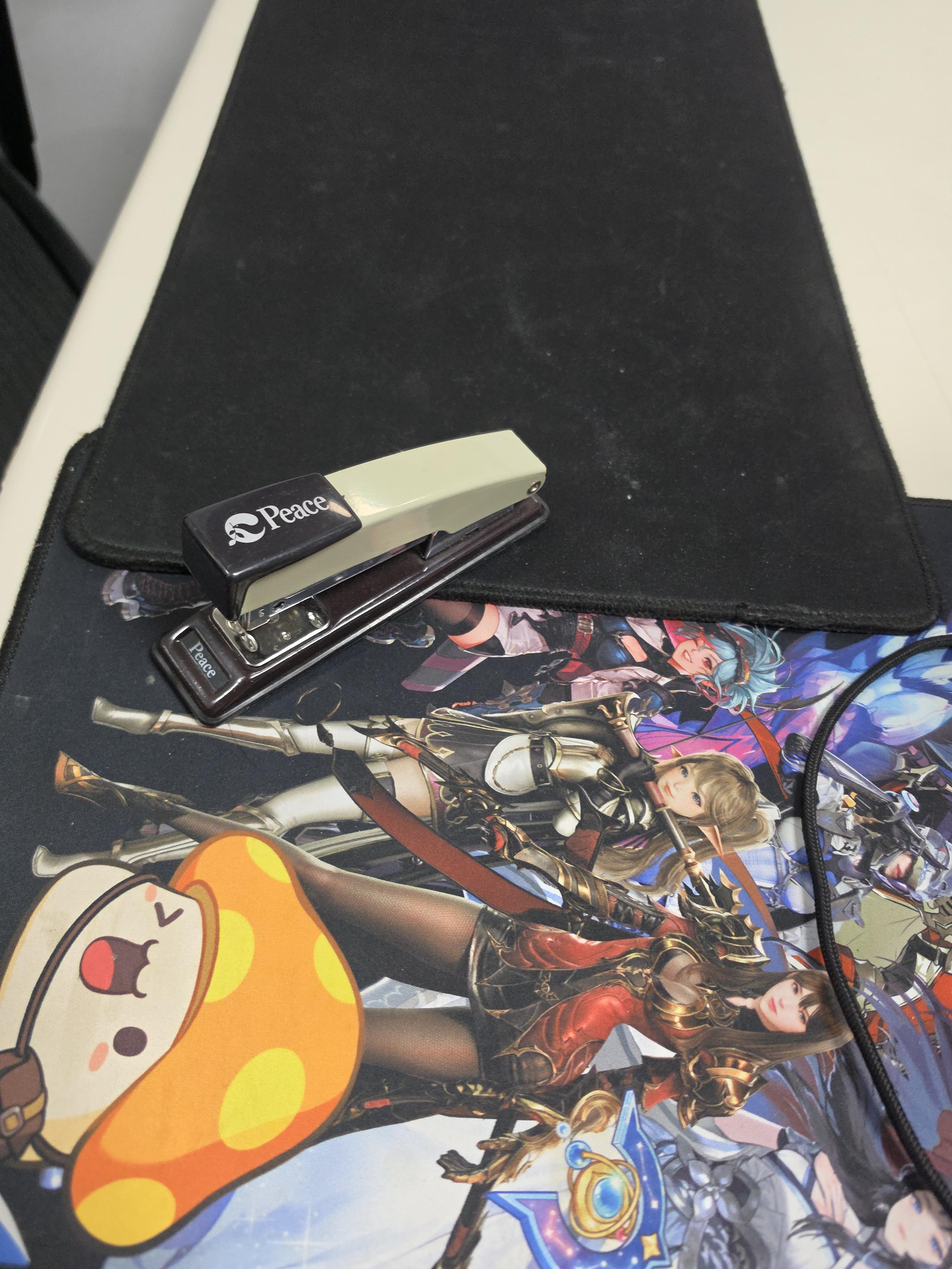stapler: (149, 428, 551, 729)
